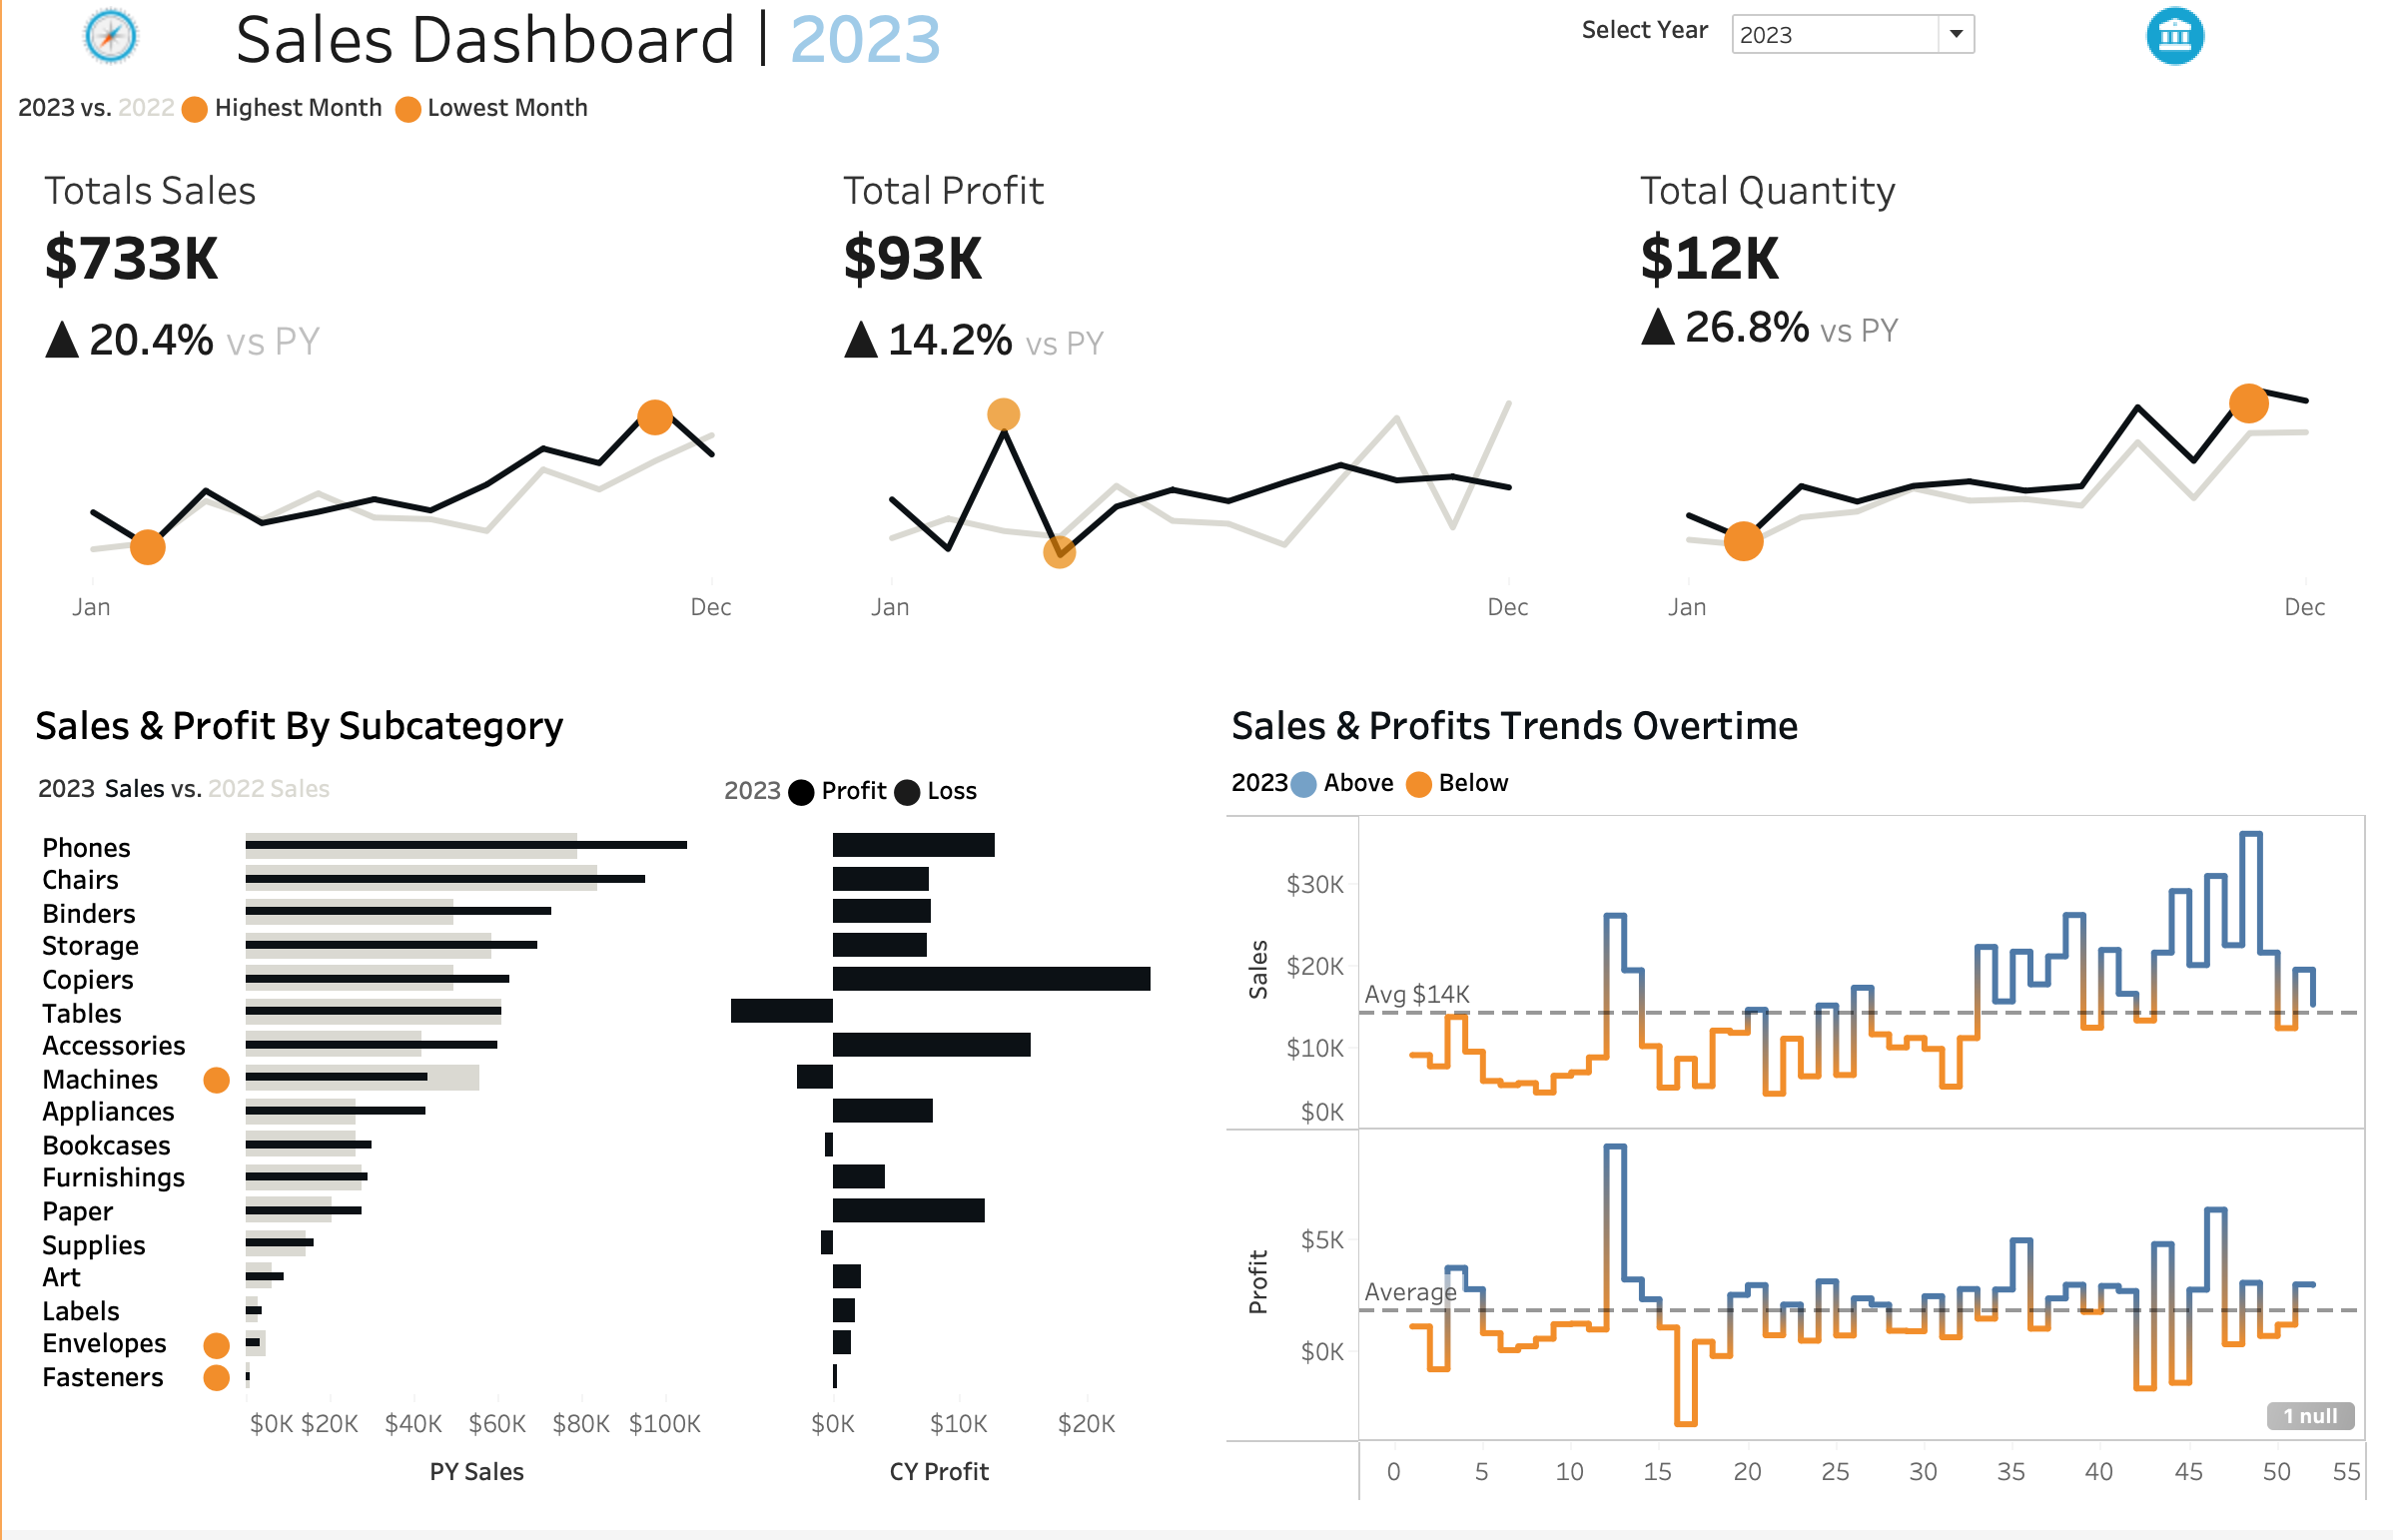

What the dashboard file says about the page in this screenshot:
{"tool":"tableau","page":{"name":"Sales Dashboard","canvas":[1200,800],"ordinal":0},"visuals":[{"type":"image","param":"Image/Icon - Logo.png","box":[1,1,110,38]},{"type":"text","box":[111,1,869,38]},{"type":"dashboard-object","box":[980,1,219,38]},{"type":"parameter","param":"[Parameters].[Parameter 1]","box":[792,6,200,37]},{"type":"worksheet","title":"Legend KPI","mark":"Automatic","box":[1,39,1198,33]},{"type":"worksheet","title":"KPI Sales","mark":"Line","rows":["Calculation_297307983430807556"],"cols":["Order Date"],"box":[1,72,400,265]},{"type":"worksheet","title":"KPI Profit","mark":"Automatic","rows":["Calculation_470766937874059268"],"cols":["Order Date"],"box":[401,72,399,265]},{"type":"worksheet","title":"KPI Quantify","mark":"Automatic","rows":["Calculation_257901487044481027"],"cols":["Order Date"],"box":[800,72,399,265]},{"type":"text","box":[11,347,579,34]},{"type":"text","box":[610,347,579,34]},{"type":"worksheet","title":"Legend Subcategory","mark":"Automatic","box":[11,381,345,32]},{"type":"text","box":[356,381,234,32]},{"type":"text","box":[610,381,579,25]},{"type":"worksheet","title":"Weekly Trends","mark":"Automatic","rows":["Calculation_297307983425011712","Calculation_470766937867214848"],"cols":["Order Date"],"box":[610,406,579,352]},{"type":"worksheet","title":"Subcategory Comparision","mark":"Bar","rows":["Sub-Category","Calculation_383087482979385344"],"cols":["CY Sales (copy)_297307983425482753","Calculation_297307983425011712","Calculation_470766937867214848"],"box":[11,413,579,345]}]}

Visuals, with their boxes on the page's 1200x800 design canvas (x1, y1, x2, y2). These are canvas units, not pixel positions in the 2393x1540 screenshot, which may show the page scaled, cropped or inside an application window:
image: x1=1, y1=1, x2=111, y2=39
text: x1=111, y1=1, x2=980, y2=39
dashboard-object: x1=980, y1=1, x2=1199, y2=39
parameter: x1=792, y1=6, x2=992, y2=43
"Legend KPI" worksheet: x1=1, y1=39, x2=1199, y2=72
"KPI Sales" worksheet (Line marks): x1=1, y1=72, x2=401, y2=337
"KPI Profit" worksheet: x1=401, y1=72, x2=800, y2=337
"KPI Quantify" worksheet: x1=800, y1=72, x2=1199, y2=337
text: x1=11, y1=347, x2=590, y2=381
text: x1=610, y1=347, x2=1189, y2=381
"Legend Subcategory" worksheet: x1=11, y1=381, x2=356, y2=413
text: x1=356, y1=381, x2=590, y2=413
text: x1=610, y1=381, x2=1189, y2=406
"Weekly Trends" worksheet: x1=610, y1=406, x2=1189, y2=758
"Subcategory Comparision" worksheet (Bar marks): x1=11, y1=413, x2=590, y2=758
